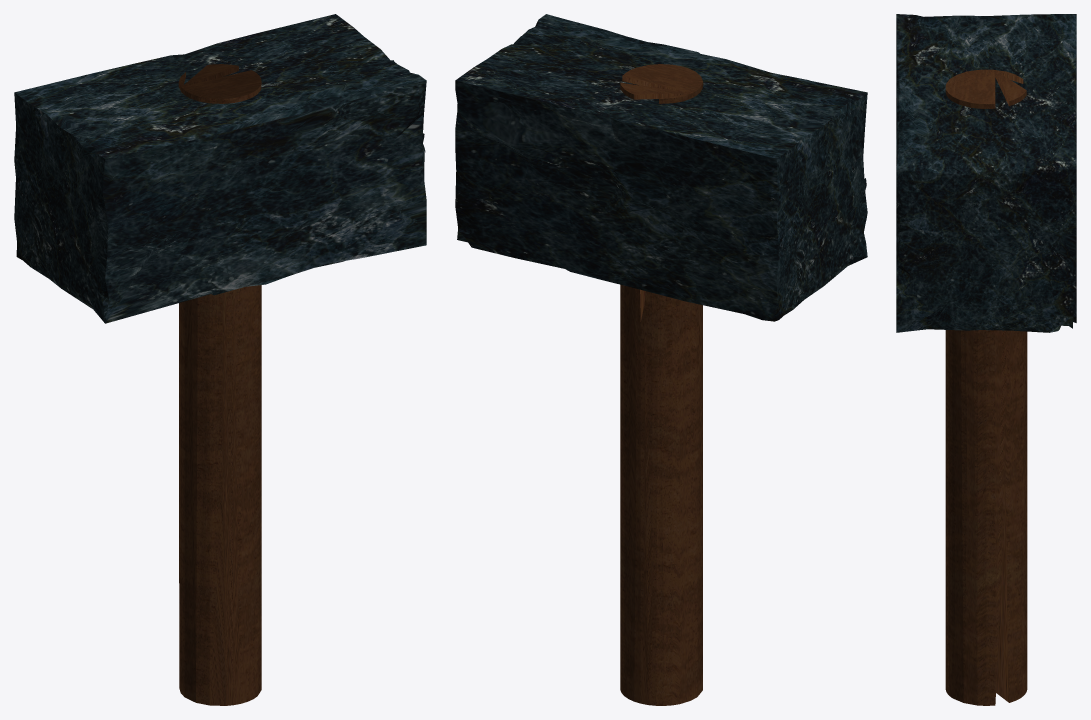
Rendered from Hammer.fbx.
3 views of the same model, side by side, from view 1: azimuth 30°, elevation 25°; view 2: azimuth 150°, elevation 25°; view 3: azimuth 270°, elevation 25° (orthographic).
Visible parts, largest first — view 1: Handle; view 2: Handle; view 3: Handle.
Boxes of the visible parts, x1,y1,x2,y2 form: Handle: [14, 14, 426, 705]; Handle: [455, 14, 867, 705]; Handle: [896, 14, 1076, 705].
Size of the model in its own units: 62.46 by 113 by 30.59.
